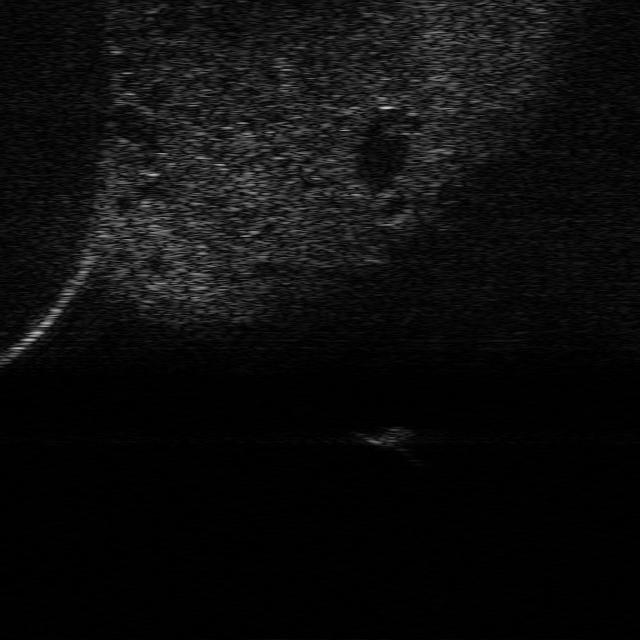cube: (358, 425, 412, 448)
